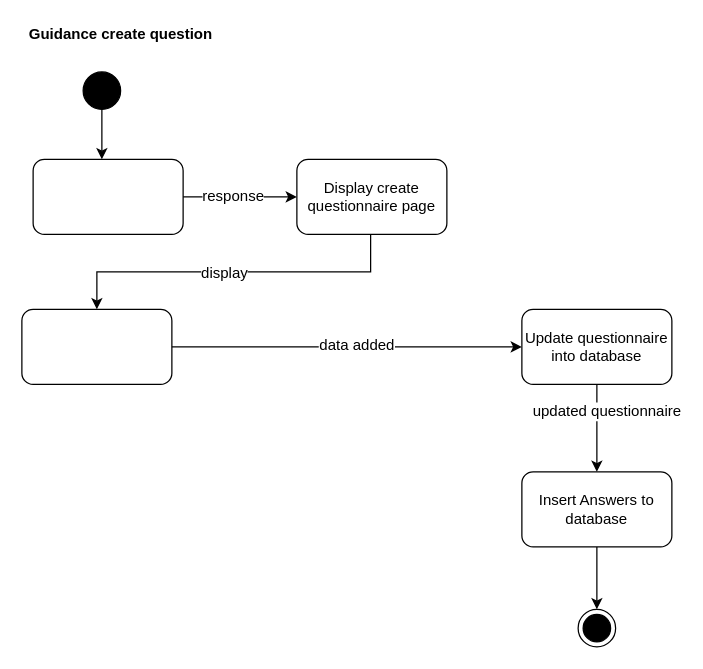
Image size: 703x669. Some labels were removed from this diagram. Each missing label, with the centre of its shape:
Add questionnaire: pixel 96 346
Click create questionnaire: pixel 107 196
